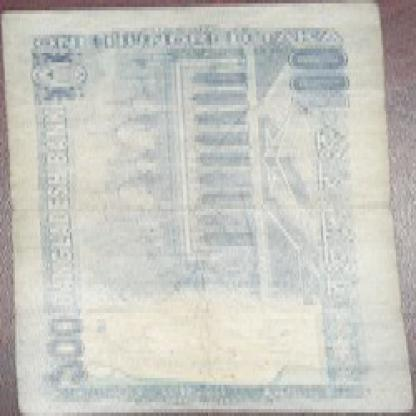one hundred taka: (282, 38, 354, 125), (47, 312, 88, 392)
